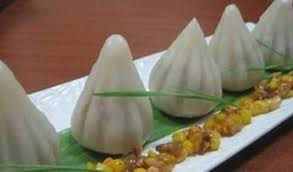modak: (72, 33, 164, 159), (139, 6, 230, 123), (1, 53, 60, 172), (211, 3, 272, 96)
